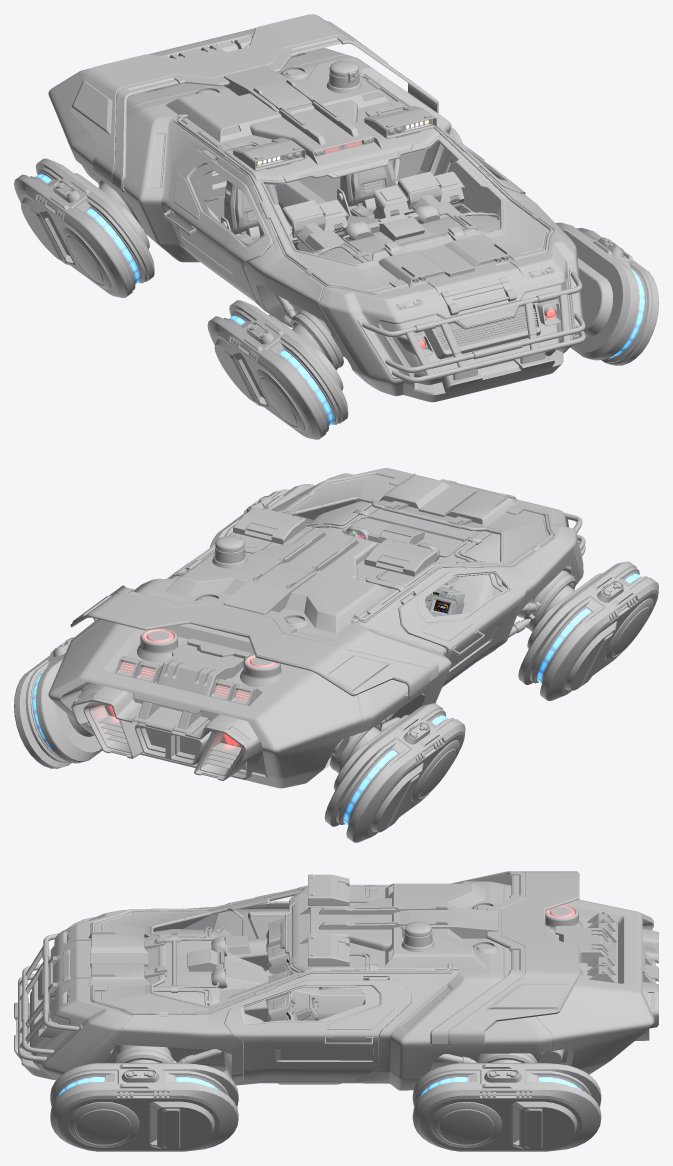
The model's file is Flying_Car-.gltf.
3 views of the same model, one above another, from view 1: azimuth 30°, elevation 25°; view 2: azimuth 150°, elevation 25°; view 3: azimuth 270°, elevation 25° (orthographic). The views are drawn at different scales.
Visible parts, largest first — view 1: Flying_Car_blue, Car_Props_Spoiler, Flying_Car_Engine02, Flying_Car_Engine04, Car_Props_Roof, Flying_Car_Engine01, Flying_Car_RighttDoor, Car_Props_Dashboard, Car_Props_Dashboard001, Flying_Car_LeftDoor, Car_Props_Seat, Car_Props_Seat001 (+1 smaller); view 2: Flying_Car_blue, Car_Props_Spoiler, Flying_Car_Engine02, Flying_Car_Engine04, Car_Props_Roof, Flying_Car_RighttDoor, Flying_Car_Engine03, Car_Props_Optic, Flying_Car_Engine01, Car_Props_Dashboard001; view 3: Flying_Car_blue, Flying_Car_Engine03, Flying_Car_Engine01, Car_Props_Spoiler, Flying_Car_LeftDoor, Car_Props_Roof, Car_Props_Dashboard001, Car_Props_Dashboard, Flying_Car_RighttDoor, Car_Props_Optic.
Part boxes in pixels (left/top/right/bottom): Flying_Car_blue: left=48, top=28, right=585, bottom=402; Car_Props_Spoiler: left=70, top=14, right=438, bottom=192; Flying_Car_Engine02: left=207, top=300, right=348, bottom=439; Flying_Car_Engine04: left=14, top=158, right=154, bottom=297; Car_Props_Roof: left=173, top=72, right=555, bottom=294; Flying_Car_Engine01: left=555, top=222, right=658, bottom=365; Flying_Car_RighttDoor: left=163, top=149, right=272, bottom=311; Car_Props_Dashboard: left=373, top=171, right=465, bottom=218; Car_Props_Dashboard001: left=257, top=200, right=349, bottom=251; Flying_Car_LeftDoor: left=400, top=99, right=525, bottom=217; Car_Props_Seat: left=337, top=160, right=396, bottom=218; Car_Props_Seat001: left=221, top=180, right=278, bottom=245; Flying_Car_blue: left=48, top=468, right=585, bottom=788; Car_Props_Spoiler: left=70, top=585, right=438, bottom=698; Flying_Car_Engine02: left=518, top=561, right=658, bottom=700; Flying_Car_Engine04: left=324, top=703, right=465, bottom=842; Car_Props_Roof: left=173, top=471, right=555, bottom=622; Flying_Car_RighttDoor: left=398, top=569, right=525, bottom=686; Flying_Car_Engine03: left=14, top=637, right=102, bottom=768; Car_Props_Optic: left=212, top=535, right=247, bottom=568; Flying_Car_Engine01: left=210, top=484, right=314, bottom=547; Car_Props_Dashboard001: left=400, top=562, right=465, bottom=616; Flying_Car_blue: left=14, top=881, right=658, bottom=1090; Flying_Car_Engine03: left=412, top=1059, right=601, bottom=1151; Flying_Car_Engine01: left=50, top=1059, right=238, bottom=1151; Car_Props_Spoiler: left=430, top=871, right=579, bottom=1046; Flying_Car_LeftDoor: left=224, top=980, right=411, bottom=1081; Car_Props_Roof: left=88, top=874, right=453, bottom=1016; Car_Props_Dashboard001: left=225, top=918, right=295, bottom=975; Car_Props_Dashboard: left=219, top=970, right=297, bottom=1022; Flying_Car_RighttDoor: left=227, top=897, right=296, bottom=972; Car_Props_Optic: left=401, top=921, right=434, bottom=951.
Bounding box in the file's own units: 4.46 × 2.17 × 6.95.
